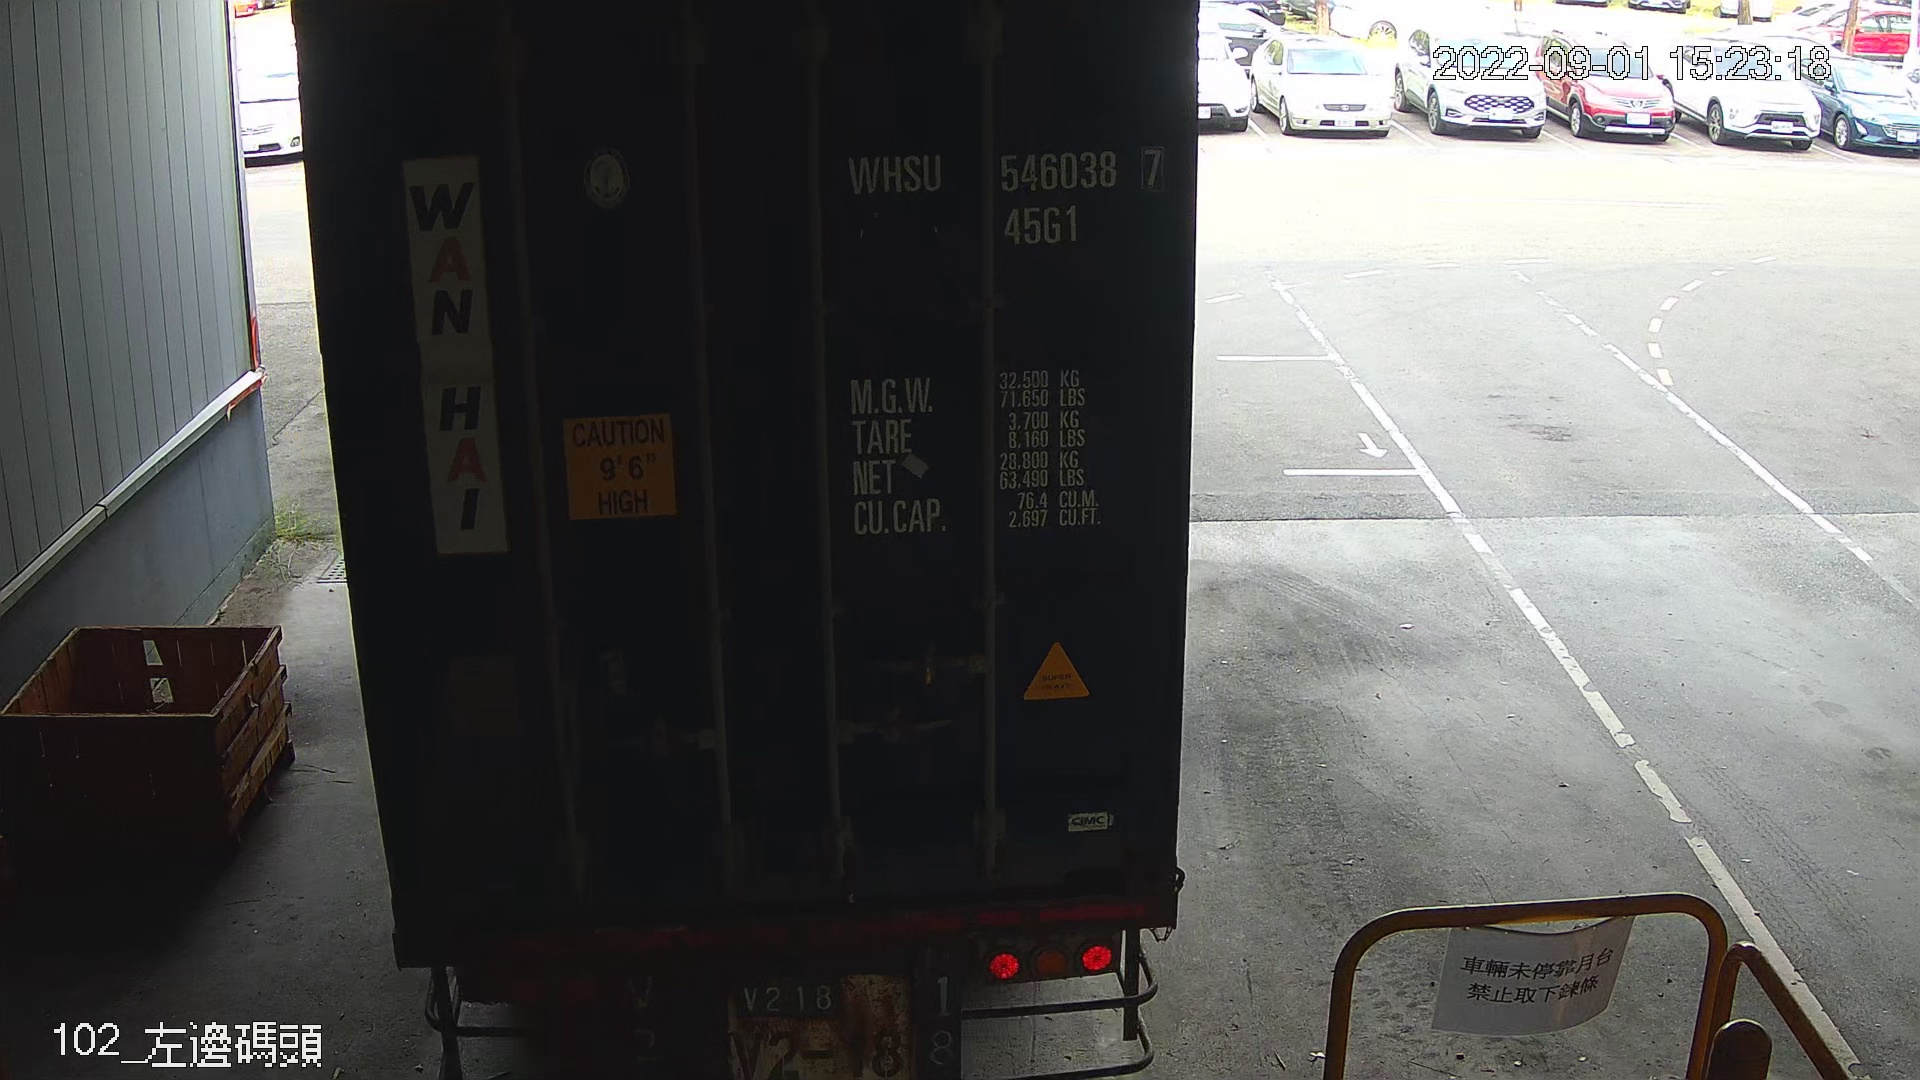container: (833, 133, 1176, 261)
